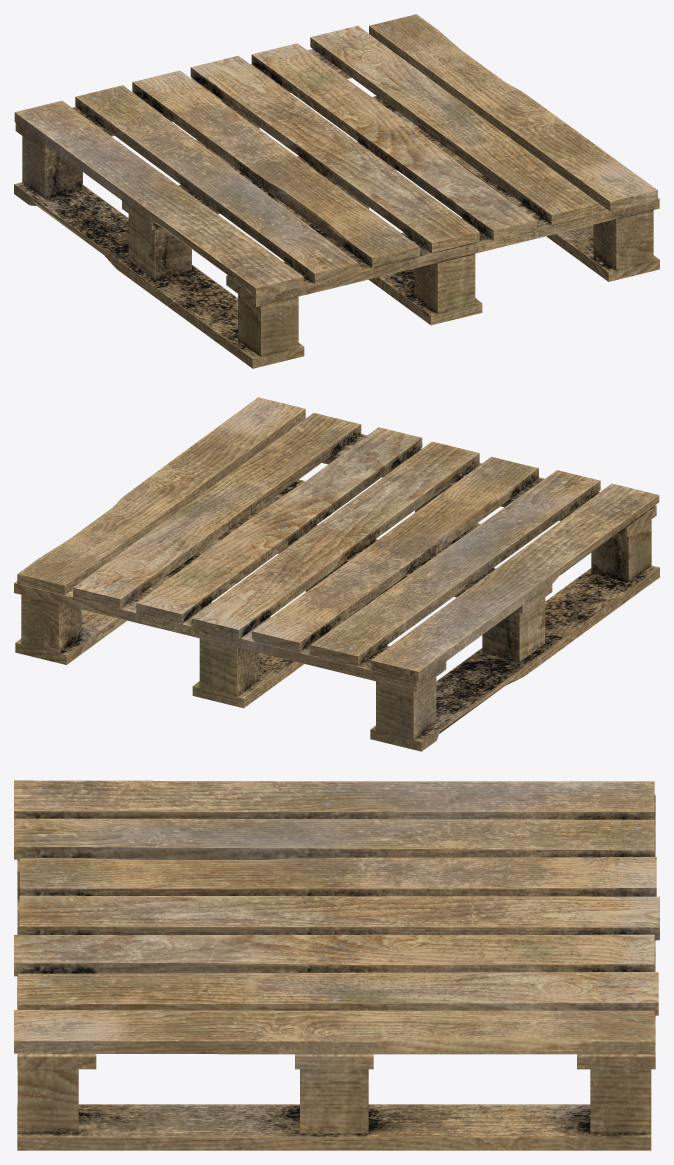
Rendered from pallet_1.fbx.
The picture shows the model from 3 angles, top to bottom: view 1: azimuth 30°, elevation 25°; view 2: azimuth 150°, elevation 25°; view 3: azimuth 270°, elevation 25°; orthographic projection. The views are drawn at different scales.
Visible parts, largest first — view 1: Pallet_pt.001; view 2: Pallet_pt.001; view 3: Pallet_pt.001.
Boxes of the visible parts, bbox=[...] form: Pallet_pt.001: bbox=[14, 14, 659, 368]; Pallet_pt.001: bbox=[14, 397, 659, 751]; Pallet_pt.001: bbox=[14, 780, 659, 1150].
Size of the model in its own units: 99.83 by 19.15 by 103.
